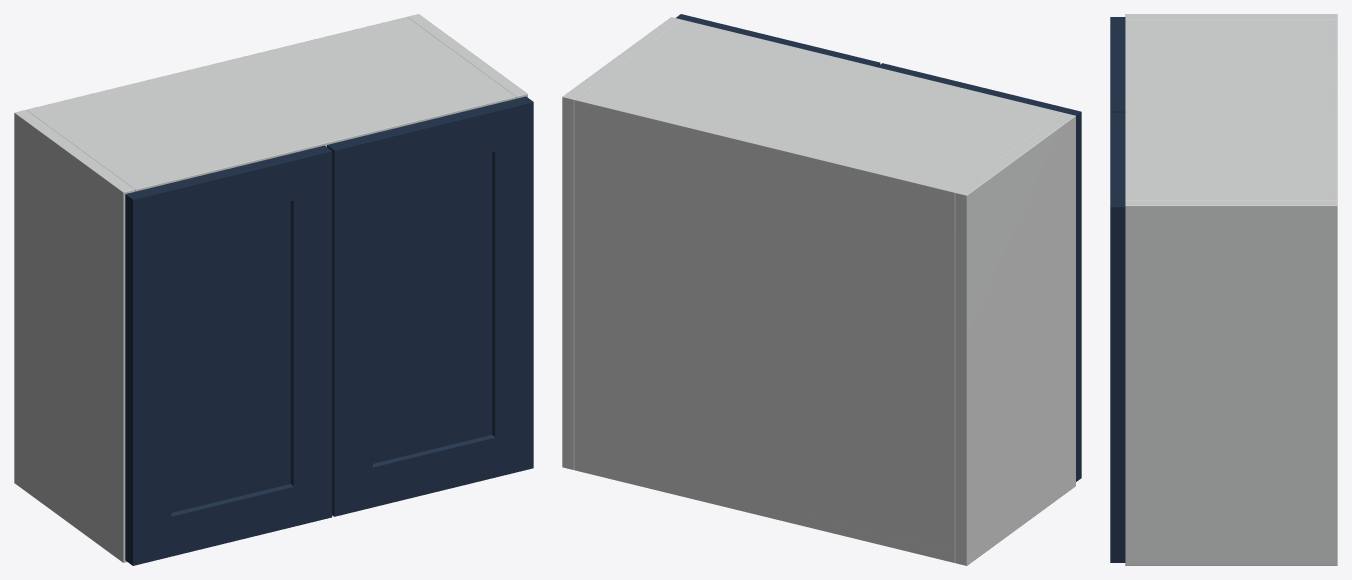
The model's file is oppein-ply-bss-w2421.glb.
3 views of the same model, side by side, from view 1: azimuth 30°, elevation 25°; view 2: azimuth 150°, elevation 25°; view 3: azimuth 270°, elevation 25° (orthographic). The views are drawn at different scales.
Parts seen in each view (by area): view 1: Door, Door.001, Cabinet side, Cabinet top, Cabinet back, Cabinet side.001; view 2: Cabinet back, Cabinet side, Cabinet top, Cabinet side.001, Door, Cabinet bottom, Door.001; view 3: Cabinet side.001, Cabinet top, Door.001, Cabinet back, Door, Cabinet side.
Boxes of the visible parts, x1=… form: Door: x1=125, y1=145, x2=332, y2=565; Door.001: x1=327, y1=96, x2=533, y2=516; Cabinet side: x1=14, y1=110, x2=134, y2=562; Cabinet top: x1=27, y1=18, x2=515, y2=191; Cabinet back: x1=27, y1=17, x2=410, y2=112; Cabinet side.001: x1=407, y1=14, x2=527, y2=98; Cabinet back: x1=574, y1=96, x2=958, y2=562; Cabinet side: x1=955, y1=113, x2=1075, y2=565; Cabinet top: x1=574, y1=20, x2=1063, y2=203; Cabinet side.001: x1=562, y1=17, x2=682, y2=469; Door: x1=877, y1=63, x2=1081, y2=481; Cabinet bottom: x1=574, y1=461, x2=955, y2=561; Door.001: x1=676, y1=14, x2=880, y2=66; Cabinet side.001: x1=1125, y1=200, x2=1337, y2=565; Cabinet top: x1=1125, y1=19, x2=1337, y2=200; Door.001: x1=1110, y1=112, x2=1125, y2=562; Cabinet back: x1=1329, y1=19, x2=1337, y2=200; Door: x1=1110, y1=17, x2=1125, y2=112; Cabinet side: x1=1125, y1=14, x2=1337, y2=19.
Bounding box in the file's own units: 0.6096 × 0.5334 × 0.3048.
